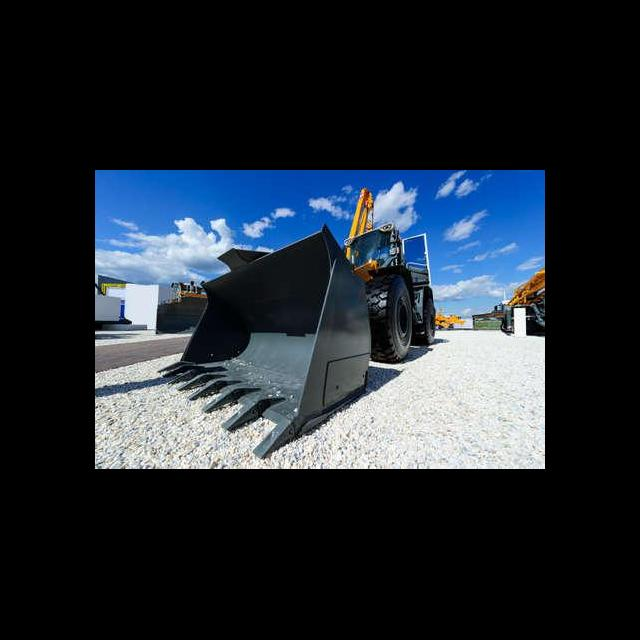wheel loader: (157, 190, 439, 460), (503, 270, 545, 334)
